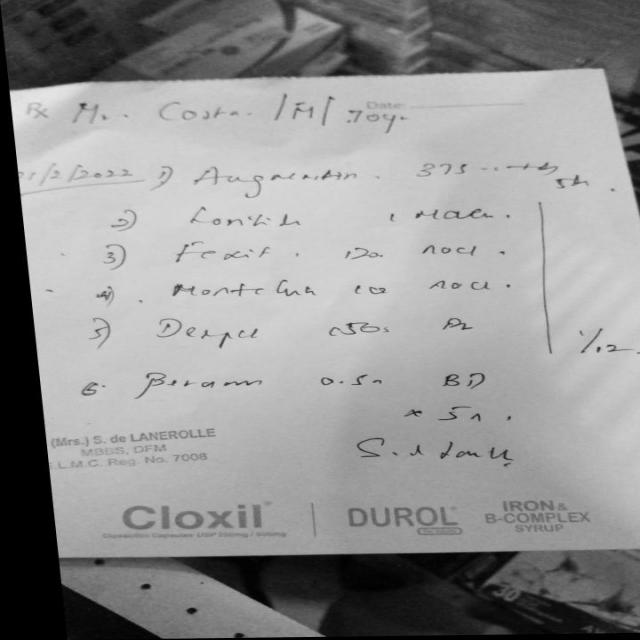Prescription: (184, 152, 590, 198), (143, 307, 482, 350), (159, 275, 493, 302), (168, 238, 480, 266), (180, 202, 497, 228)
